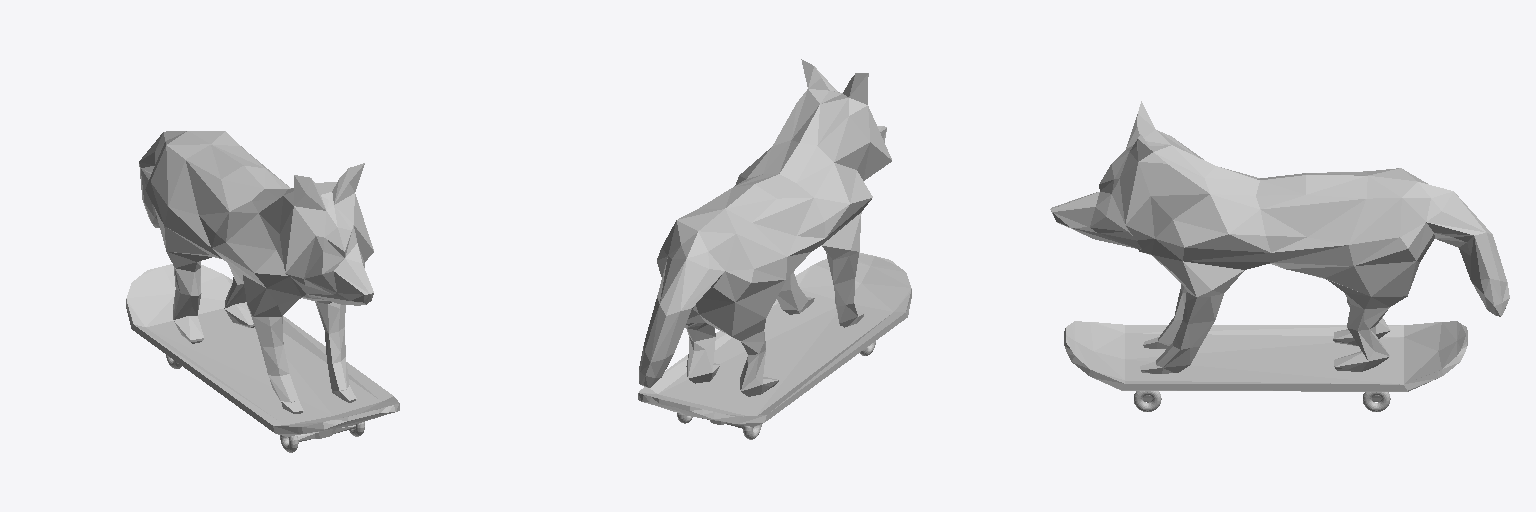
The model's file is Fuchs28.obj.
3 views of the same model, side by side, from view 1: azimuth 30°, elevation 25°; view 2: azimuth 150°, elevation 25°; view 3: azimuth 270°, elevation 25° (orthographic).
Bounding box in the file's own units: 3.58 × 7.87 × 11.76.